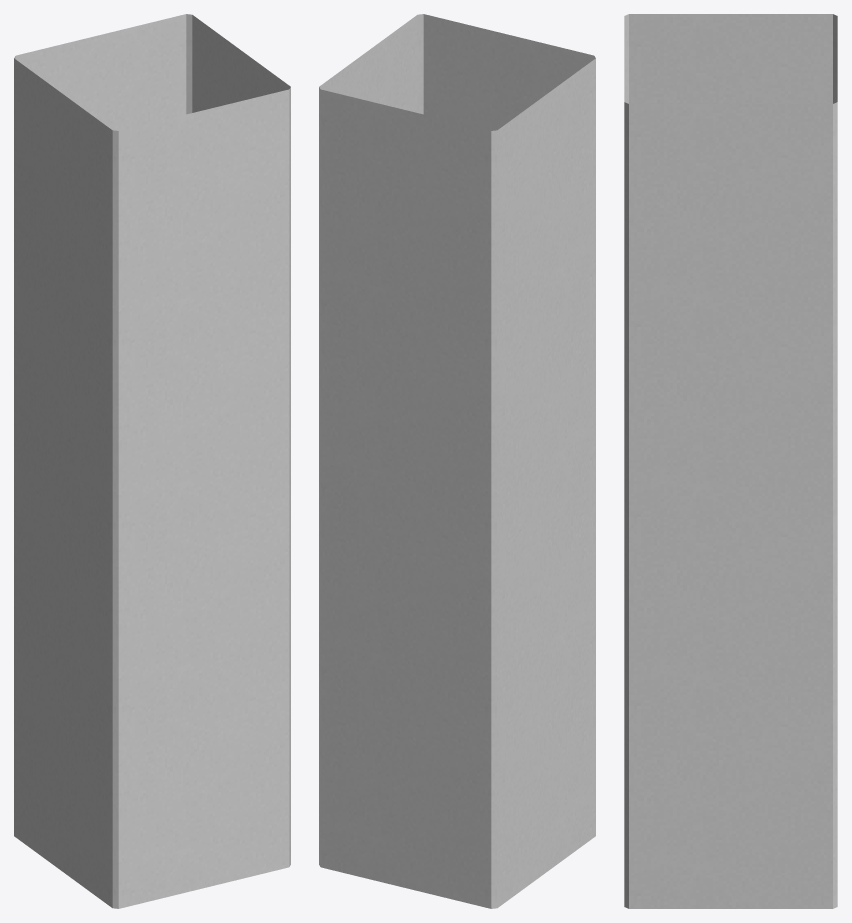
Rendered from Pillar.glb.
The picture shows the model from 3 angles, left to right: view 1: azimuth 30°, elevation 25°; view 2: azimuth 150°, elevation 25°; view 3: azimuth 270°, elevation 25°; orthographic projection. The views are drawn at different scales.
Parts seen in each view (by area): view 1: pillar; view 2: pillar; view 3: pillar.
Part boxes in pixels (bbox=[...]): pillar: bbox=[14, 14, 290, 908]; pillar: bbox=[319, 14, 595, 908]; pillar: bbox=[624, 14, 837, 908].
Size of the model in its own units: 0.6 by 2.5 by 0.6.
Materials: 1 (1 with a texture image).
